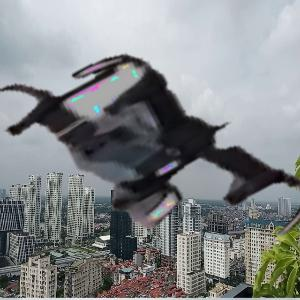drone: (15, 13, 300, 298)
